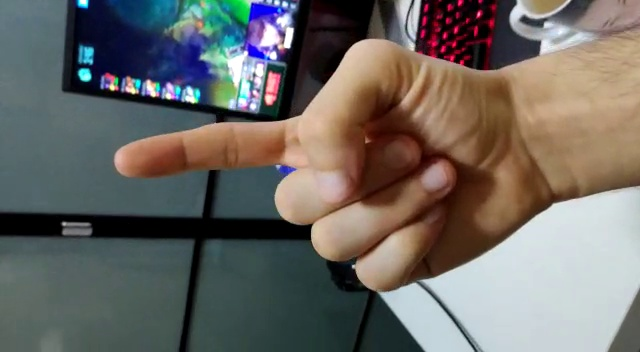One: (110, 38, 521, 294)
